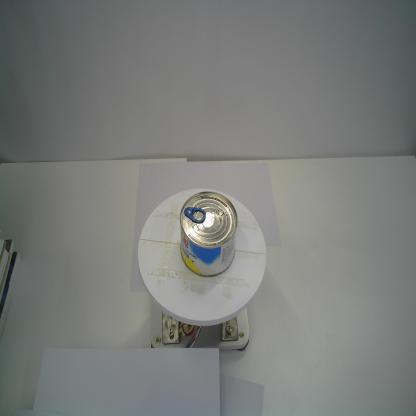Canned Food: (179, 190, 238, 276)
